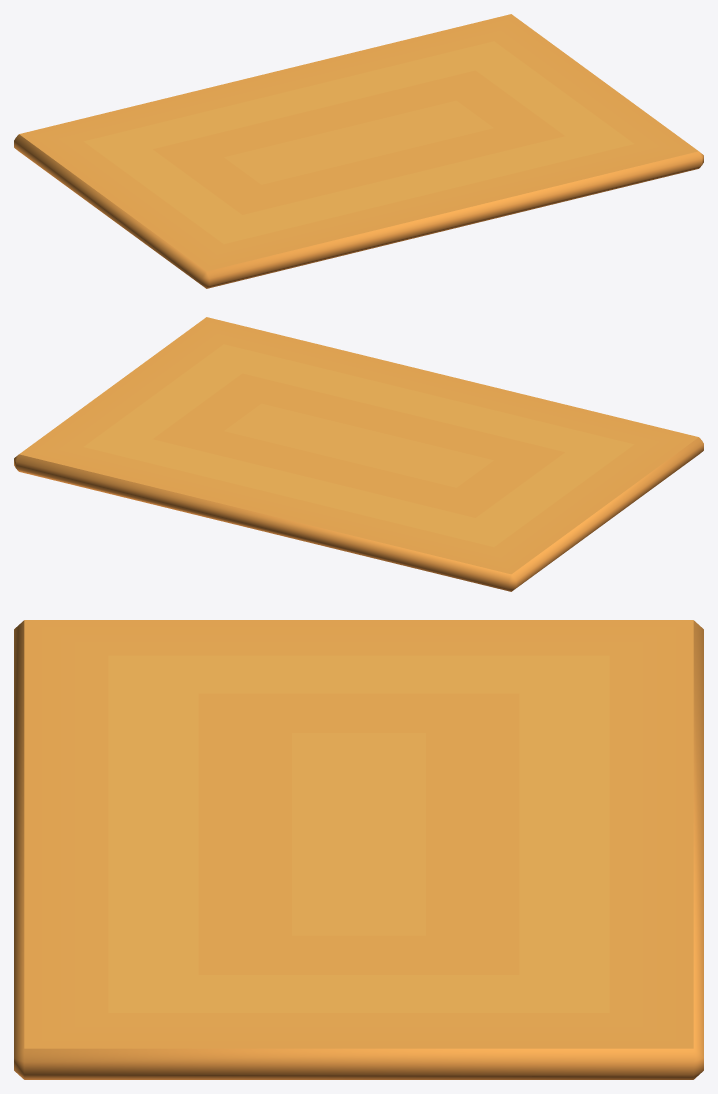
3 renders of one model, top to bottom at view 1: azimuth 30°, elevation 25°; view 2: azimuth 150°, elevation 25°; view 3: azimuth 270°, elevation 25°, orthographic. The views are drawn at different scales.
Visible parts, largest first — view 1: rug_rectangle_stripes_A; view 2: rug_rectangle_stripes_A; view 3: rug_rectangle_stripes_A.
Boxes of the visible parts, box(x1,y1,x2,y2) form: rug_rectangle_stripes_A: box(14, 14, 703, 288); rug_rectangle_stripes_A: box(14, 317, 703, 591); rug_rectangle_stripes_A: box(14, 620, 703, 1079).
Size of the model in its own units: 3 by 0.1 by 2.
1 material, 1 textured.
